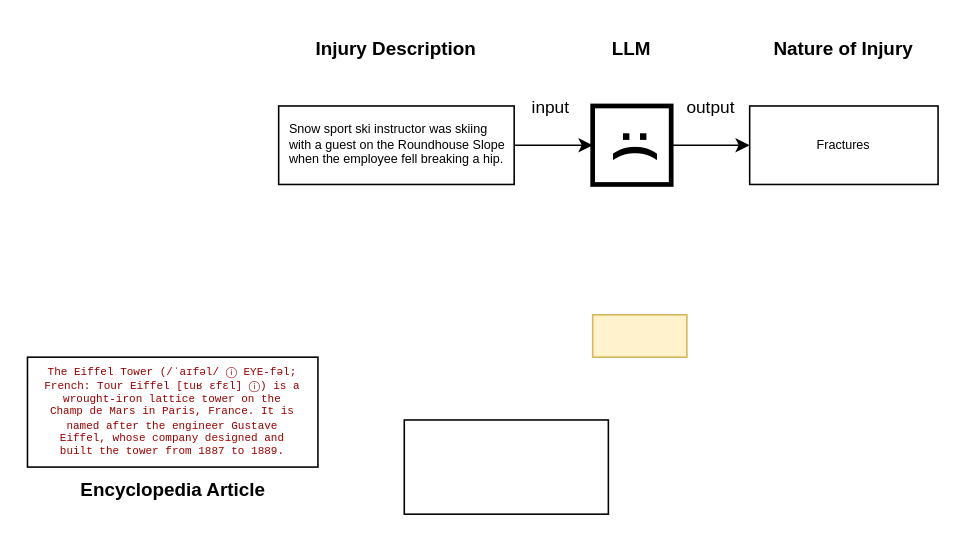
The diagram is 966 pixels wide and 542 high, and some of its shapes have lost their labels. The centre of each missing label's shape, as x and y in pixels:
Building: point (639, 335)
Qwen2.5-7B-Instruct: point (505, 466)
